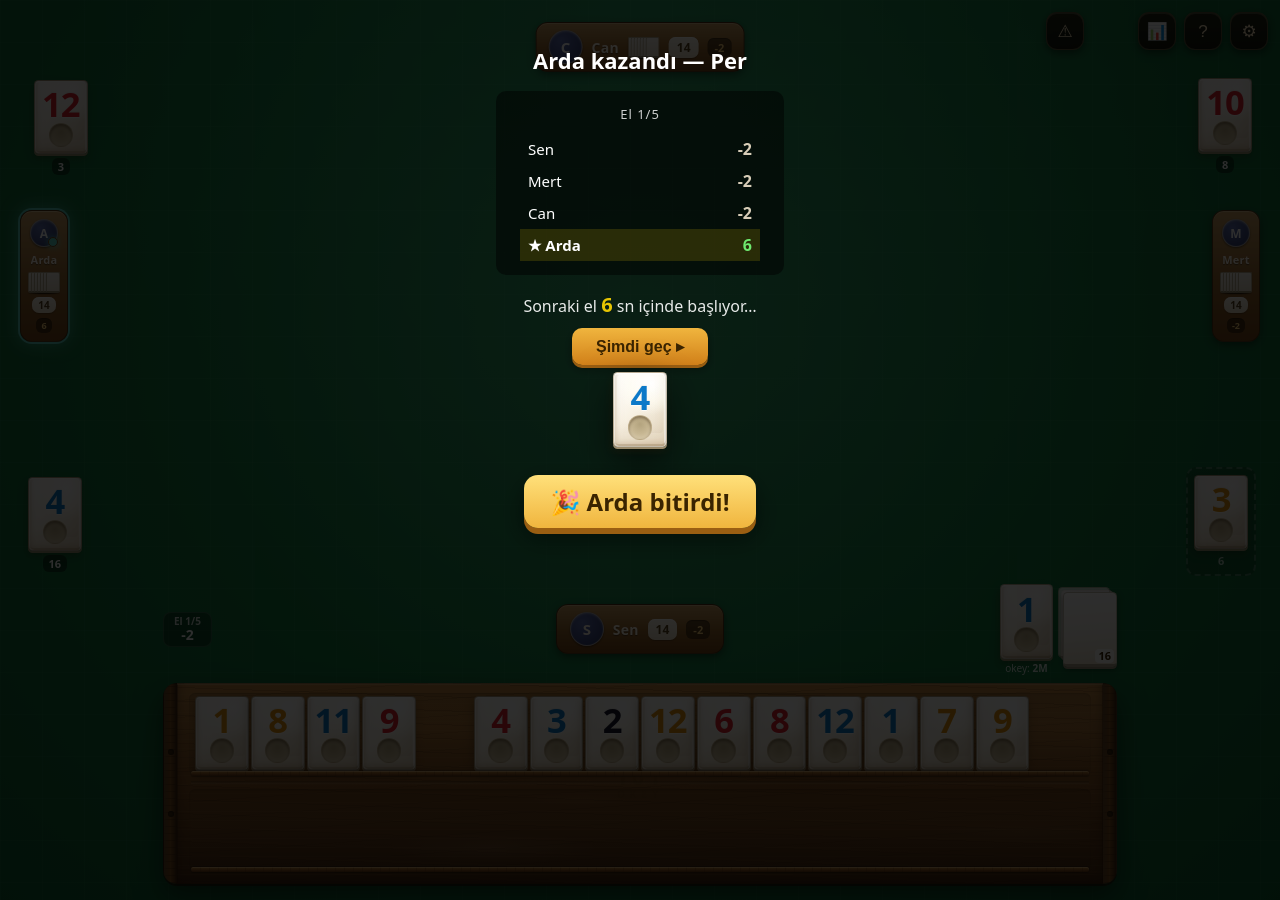
Test: score modal reflects finished hands immediately (KLASIK) › shows hand 1 in the table as soon as hand 1 has ended
This screenshot has width=1280, height=900.
# USER'S EXACT FLOW: skip the countdown ("Şimdi geç") to deal hand 2, THEN open the modal.
Click the button "Şimdi geç ▸". click: {"x": 640, "y": 346}
box: [572,328,708,365]
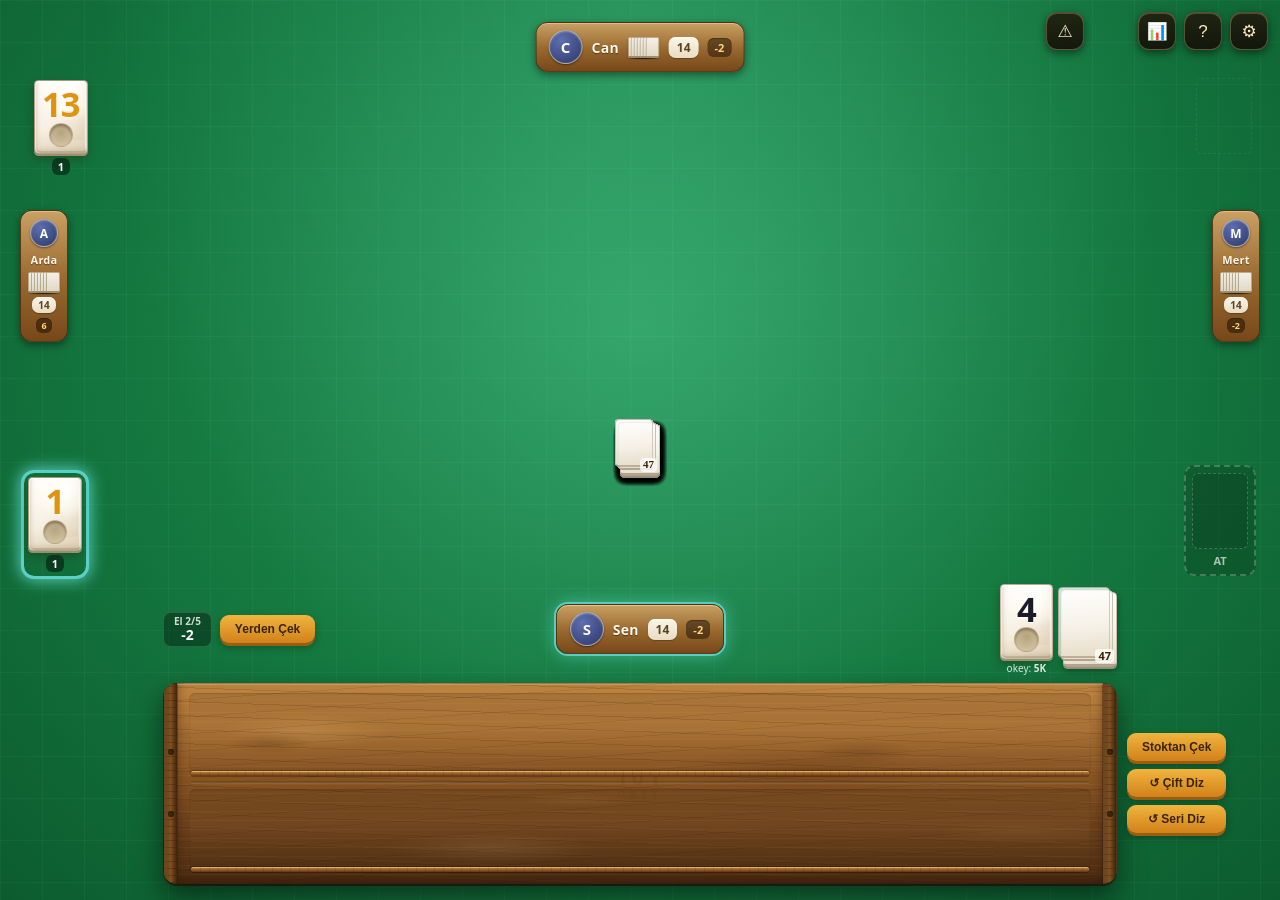
# Open the score modal (📊).
Click the button named "skor". click: {"x": 1157, "y": 31}
box: [1138,12,1176,50]
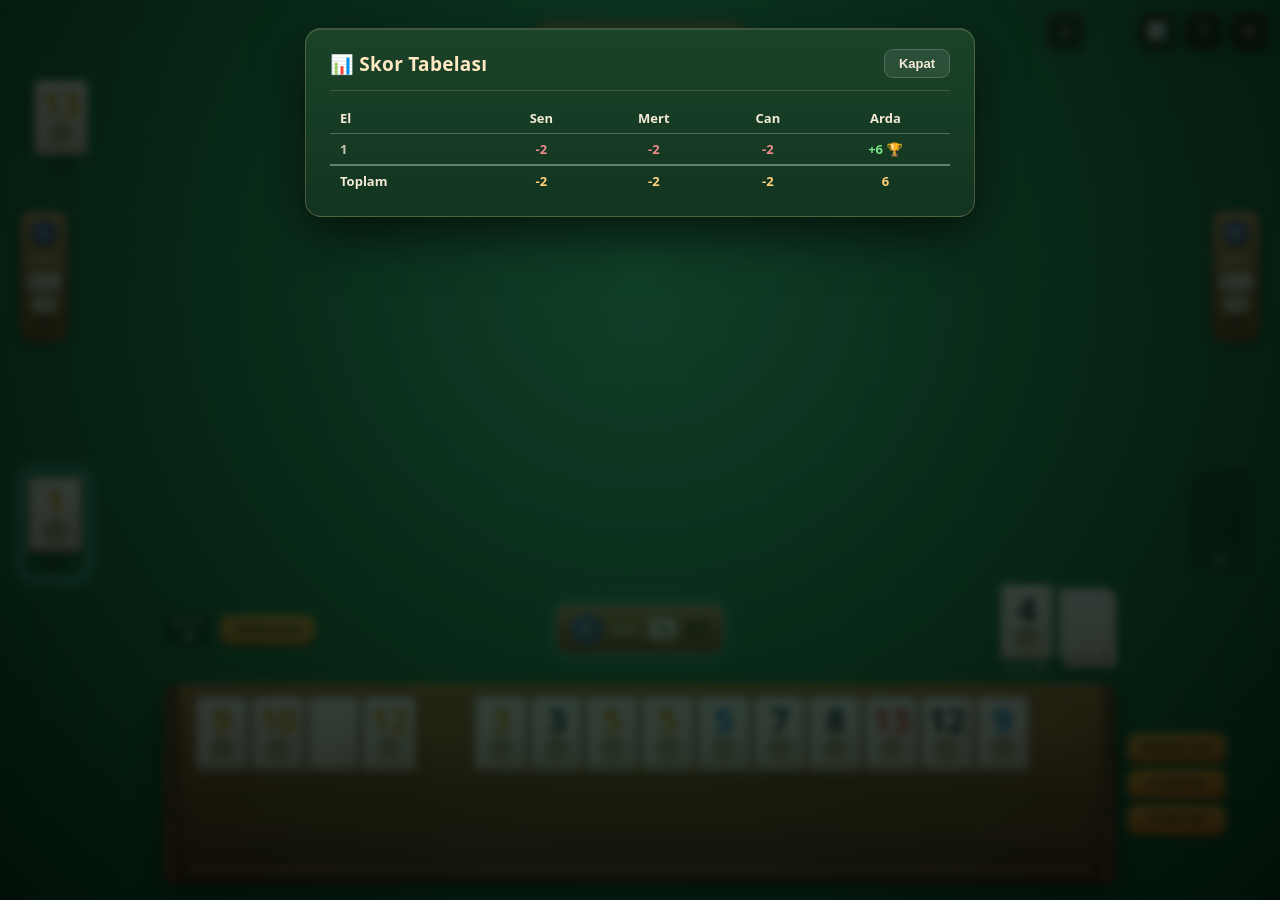
Check: the element with test id "score-table" is shown, box [330,103,950,196]
